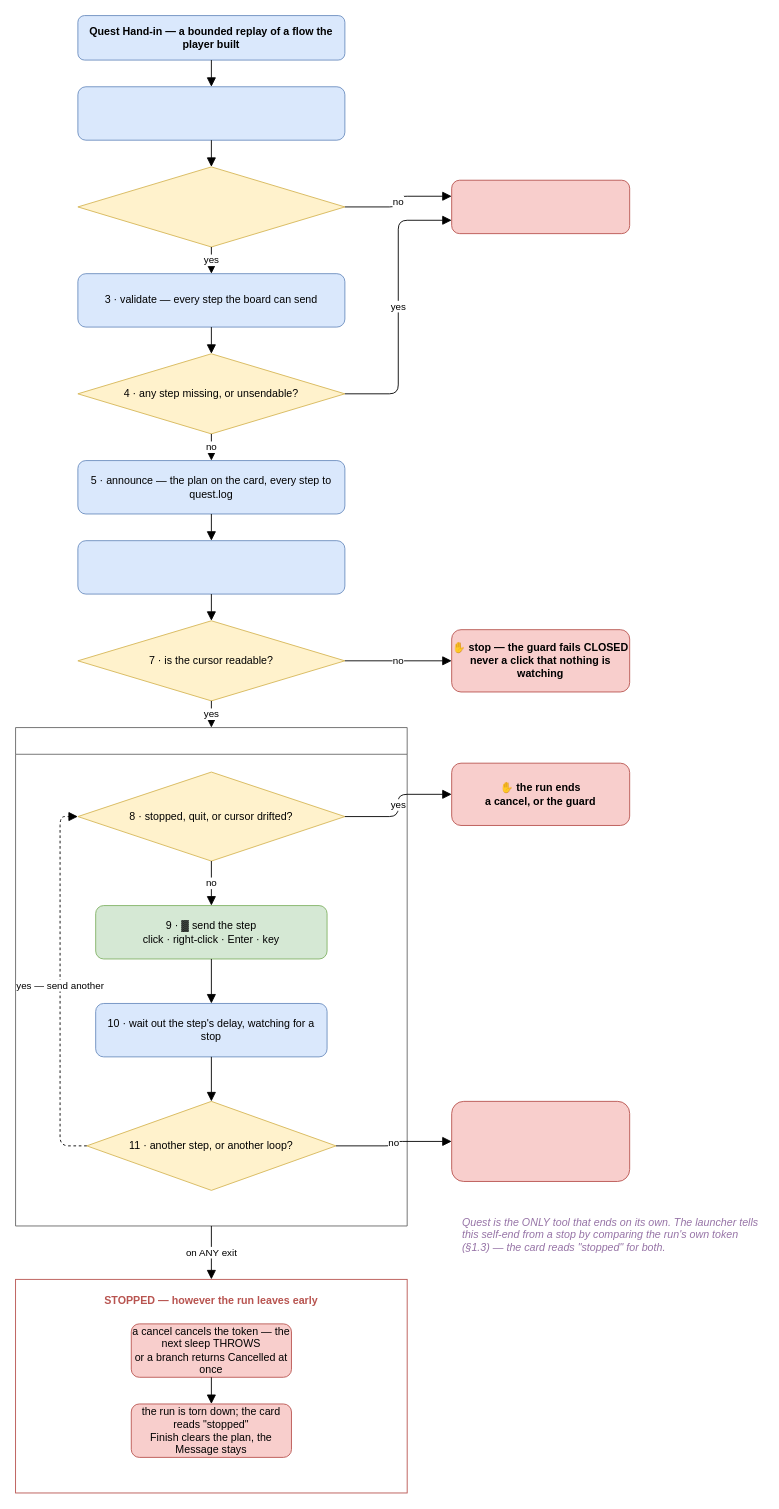
This 779x1509 diagram has some shape labels left out. Here are the shapes that lost their labels. From the top down, the box of each, then its label:
(77, 86, 345, 140): 1 · choose — the card's pick first, then the tab's
(77, 166, 345, 247): 2 · does the named flow or sequence exist?
(451, 179, 630, 234): ✋ refuse NOTHING has been clicked — reason left on the card
(77, 540, 345, 594): 6 · position — count the aim window down, out loud
(15, 727, 407, 1226): LOOP — counted: a flow's passes, or a sequence's master rounds
(451, 1100, 630, 1181): ✋ DONE — the run ends BY ITSELF the count simply ran out — no stop, no crash
